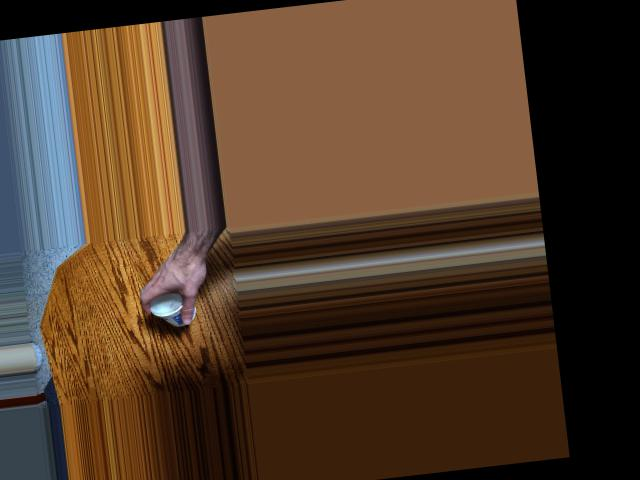cotage: (151, 283, 202, 328)
